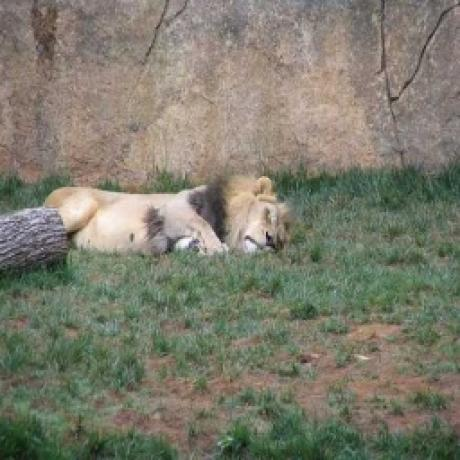Lion: (34, 158, 298, 268)
